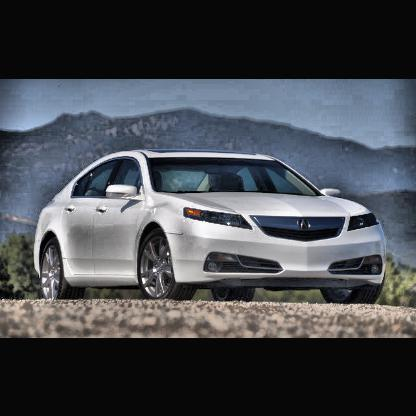Acura TL Sedan 2012: (32, 144, 393, 319)
